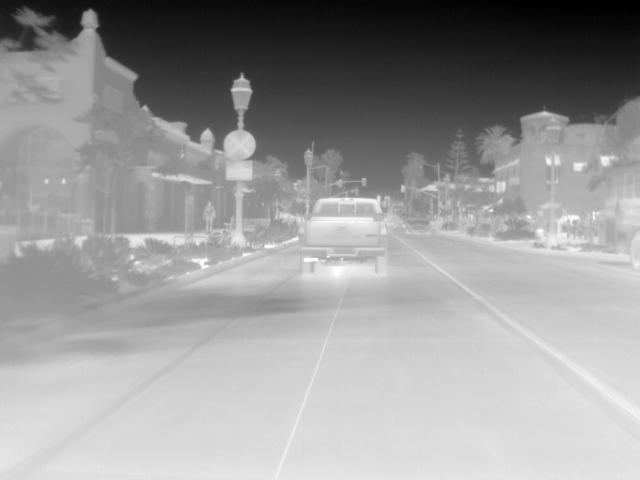car: (300, 196, 390, 274), (403, 212, 433, 234)
person: (202, 200, 216, 234)
